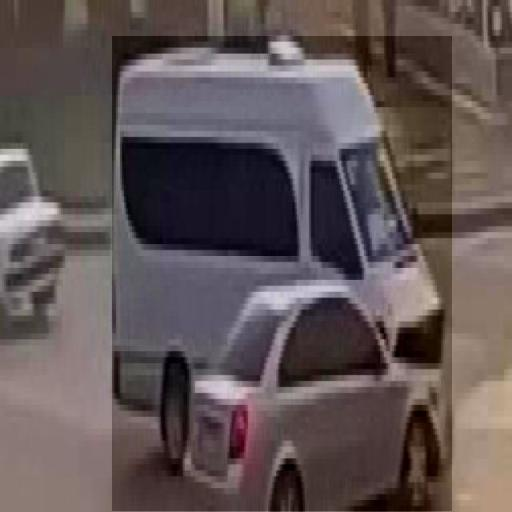小汽车撞小汽车: (112, 36, 452, 511)
